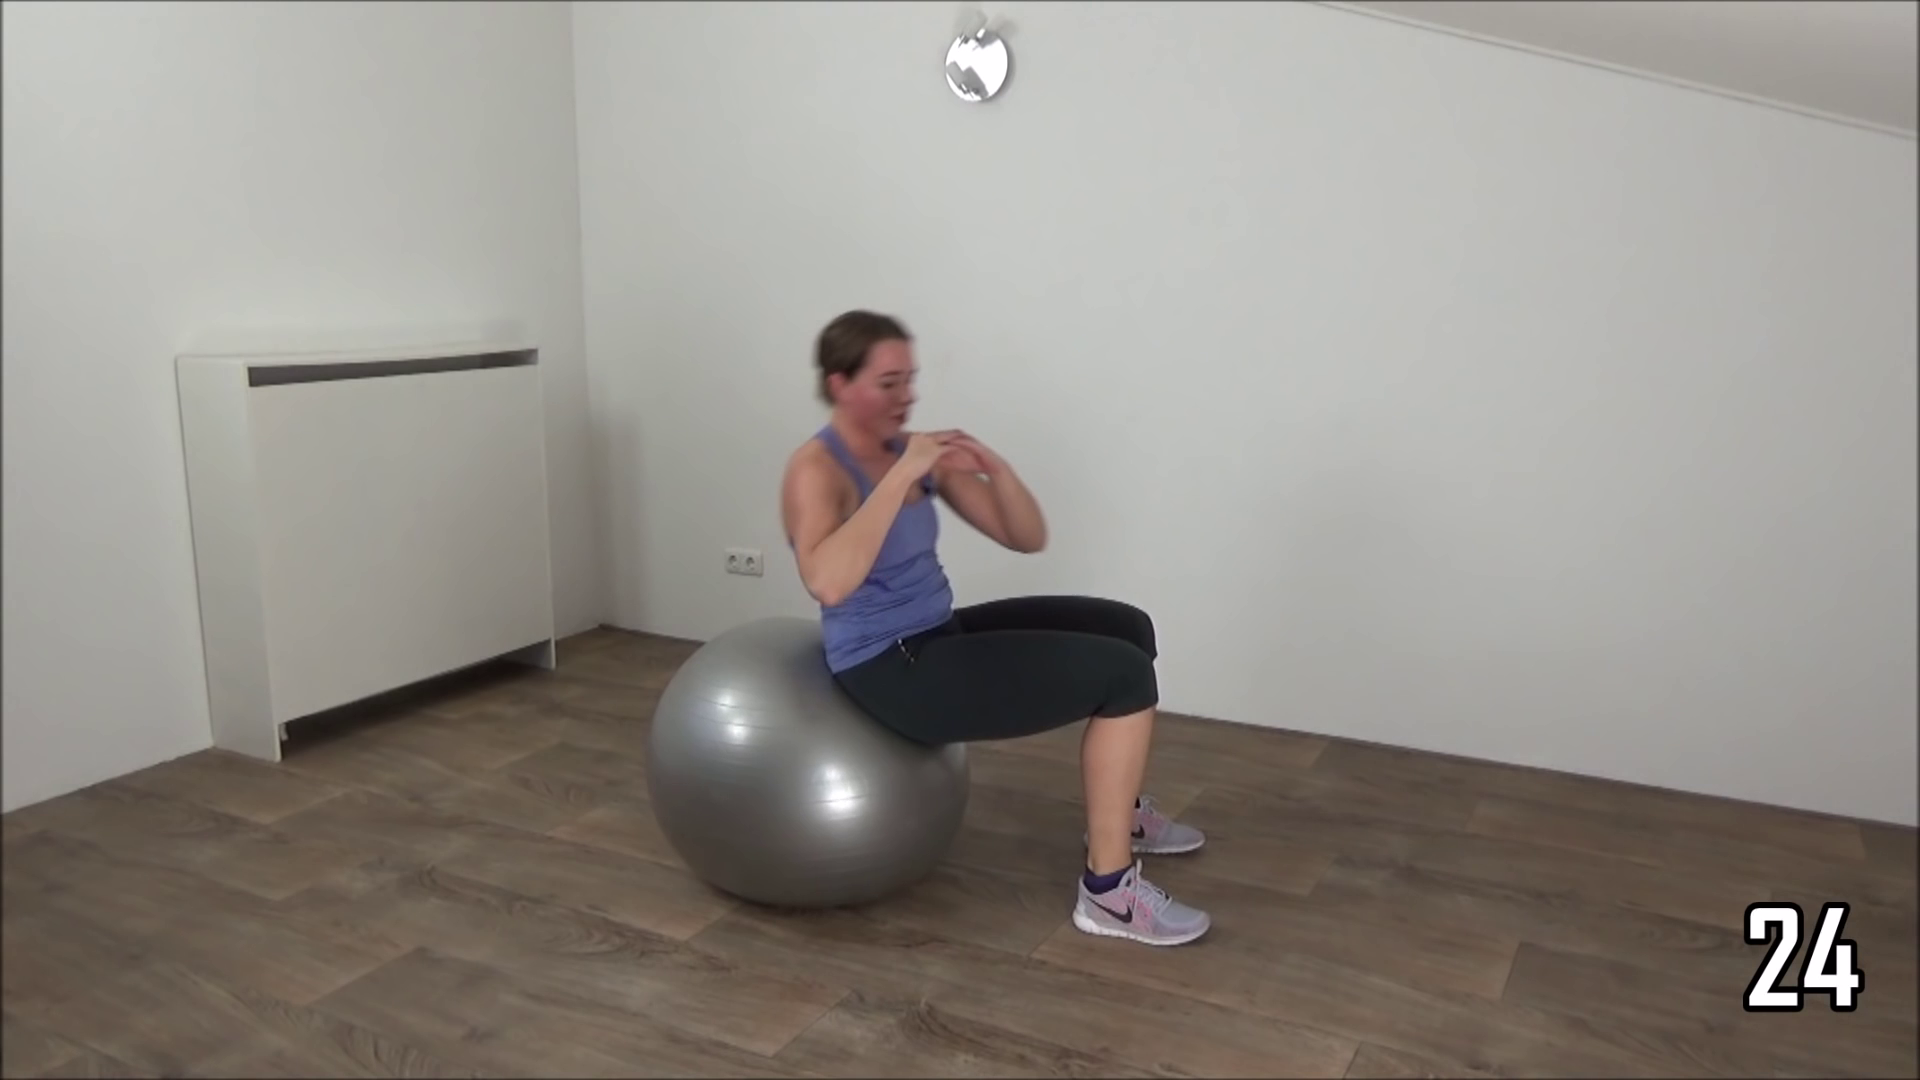yogaball: (633, 608, 989, 932)
